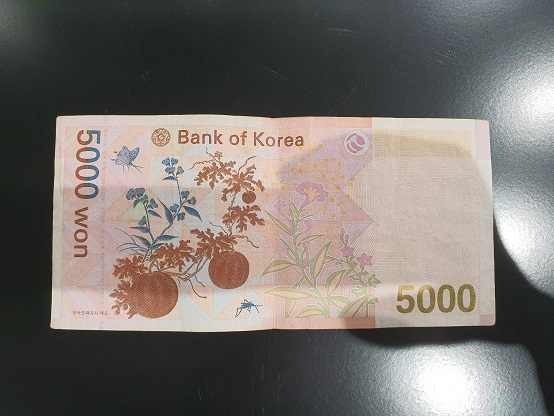5000won: (52, 115, 496, 332)
